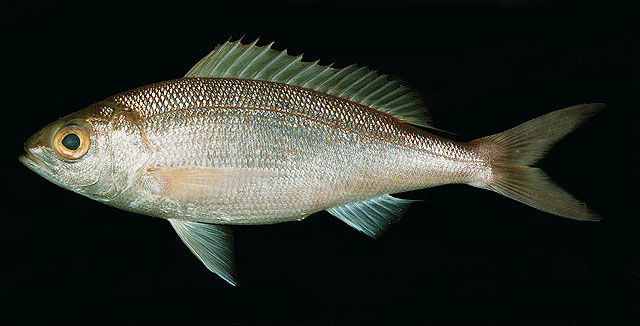fish: (17, 35, 607, 286)
